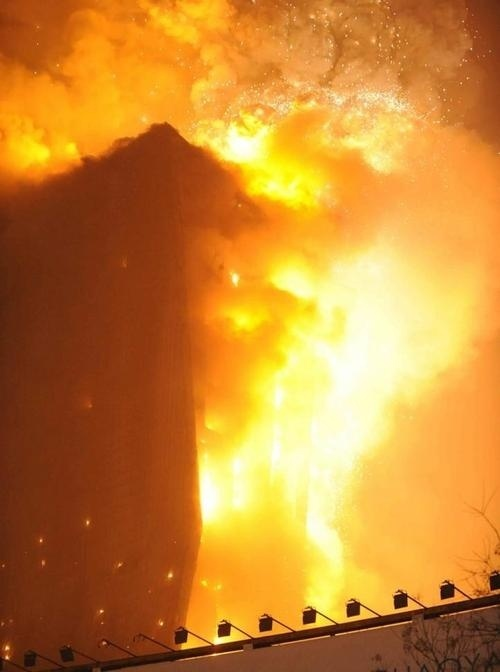fire: (2, 114, 84, 177)
